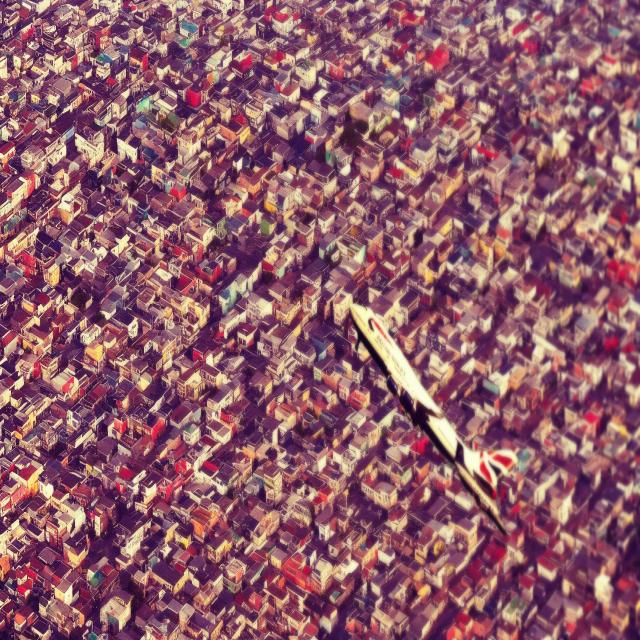airplane: (348, 300, 518, 536)
